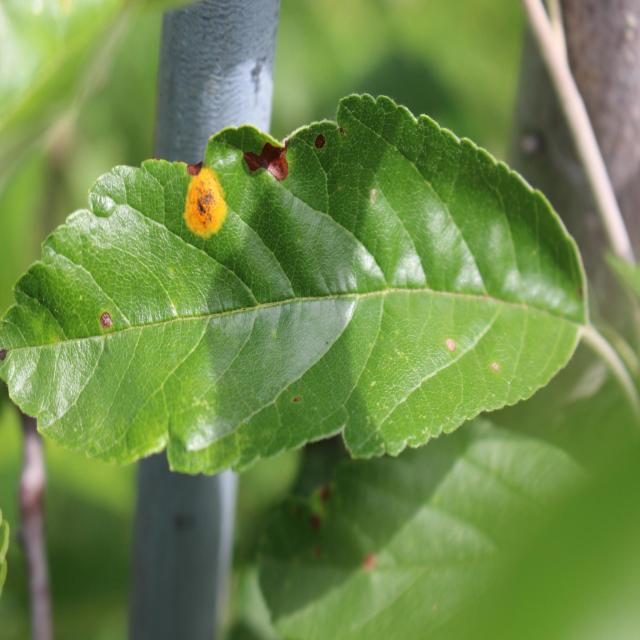Black Rot: (238, 123, 289, 200), (78, 310, 124, 335)
Rust: (181, 168, 223, 252)
